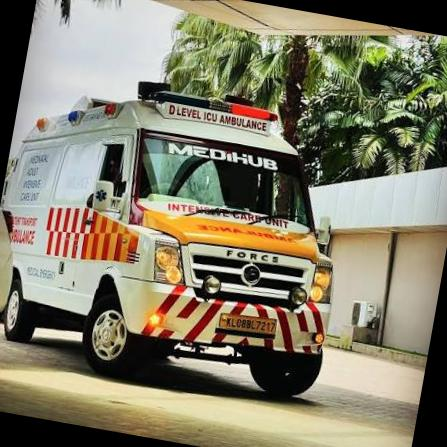ambulance: (0, 56, 366, 409)
